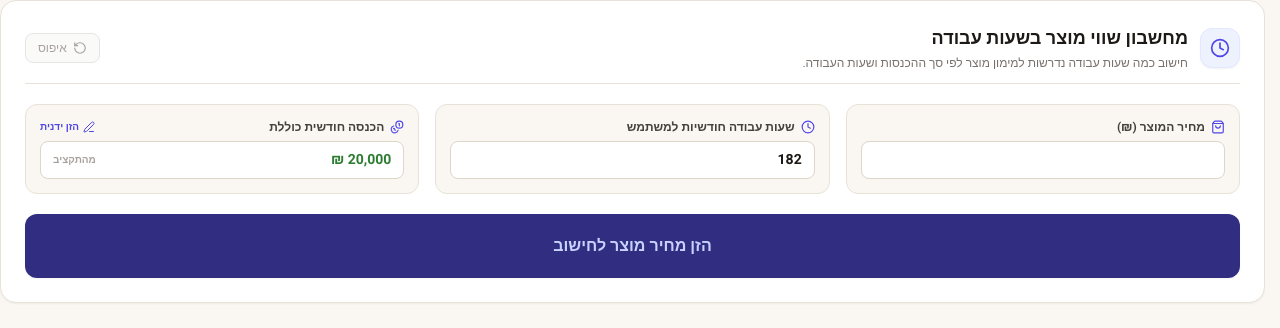
WorkHoursCostCalculator Component › updates calculation when changing monthly hours input
Type "1000" into the number field named "מחיר המוצר".
click(1043, 160); type("1000")  # box x1=861 y1=141 x2=1225 y2=179
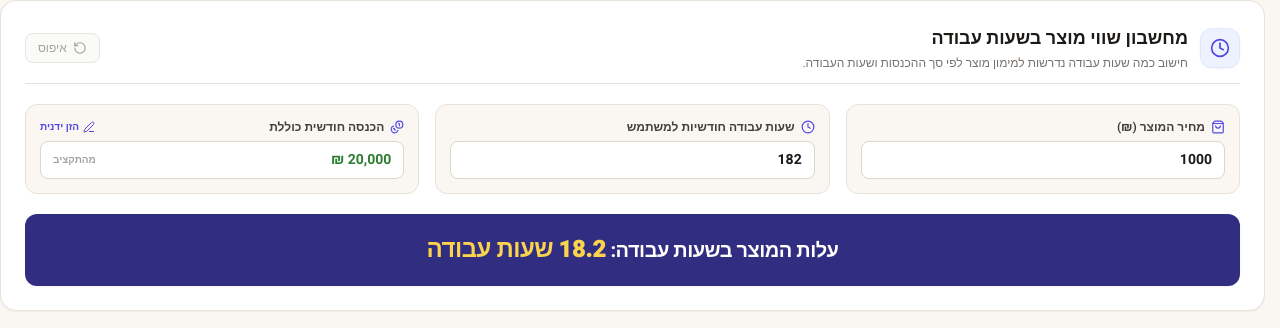
Replace the text in the number field named "שעות עבודה חודשיות" with "160" at (632, 160), box x1=450 y1=141 x2=815 y2=179
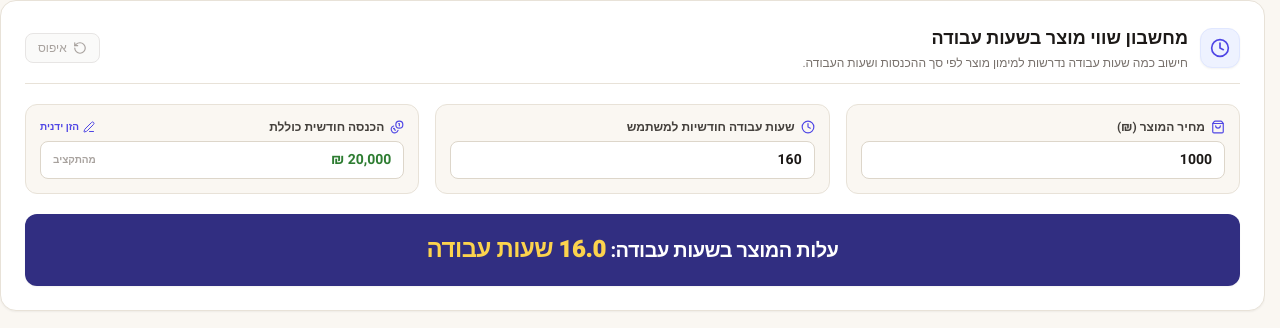
Check: the text "16.0 שעות עבודה" is shown, box x1=426 y1=232 x2=606 y2=267
